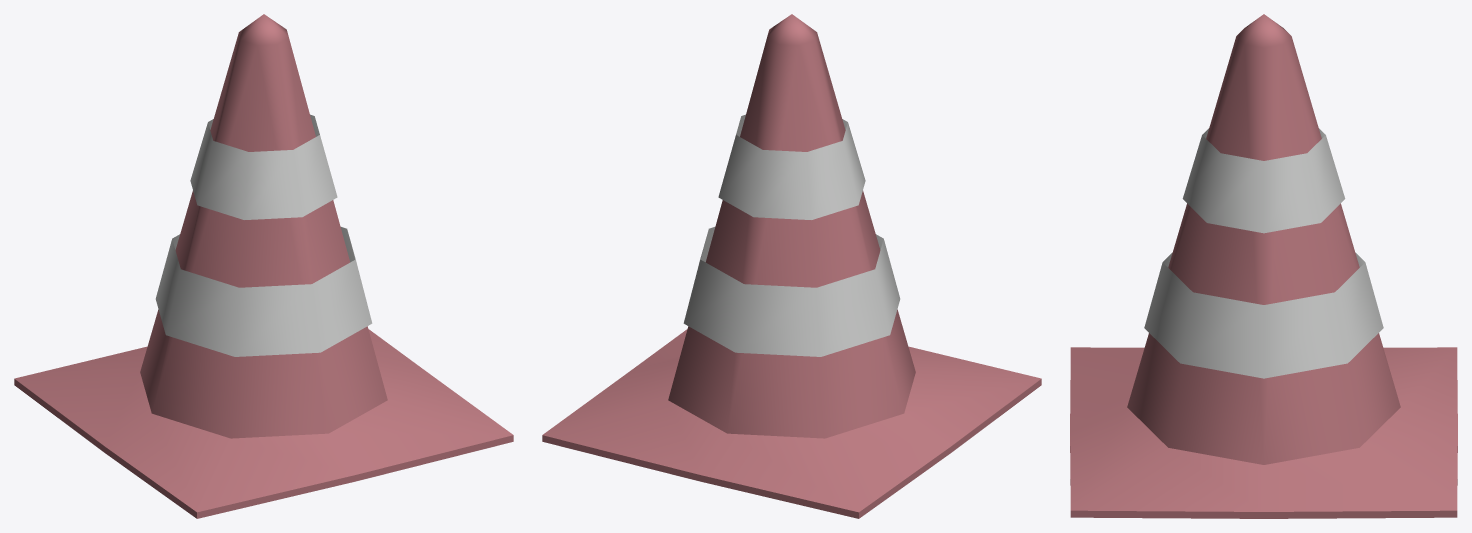
Rendered from rubber_cone.fbx.
The picture shows the model from 3 angles, left to right: view 1: azimuth 30°, elevation 25°; view 2: azimuth 150°, elevation 25°; view 3: azimuth 270°, elevation 25°; orthographic projection. The views are drawn at different scales.
Parts seen in each view (by area): view 1: stage_d_physics_gs_new; view 2: stage_d_physics_gs_new; view 3: stage_d_physics_gs_new.
Part boxes in pixels (box(x1,y1,x2,y2)): stage_d_physics_gs_new: box(14, 14, 513, 518); stage_d_physics_gs_new: box(542, 14, 1041, 518); stage_d_physics_gs_new: box(1070, 14, 1457, 518).
Bounding box in the file's own units: 112 × 135 × 112.
Materials: 1 (1 with a texture image).
